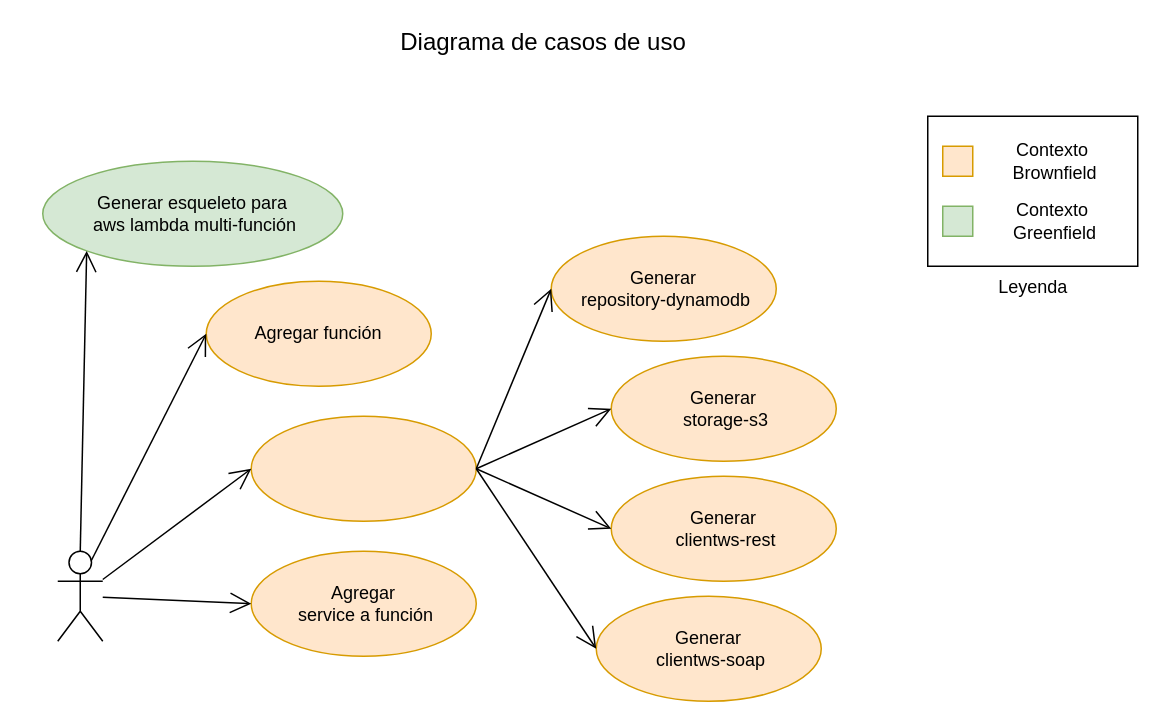
The diagram is 1164 pixels wide and 728 high, and some of its shapes have lost their labels. The shapes that lost their labels are listed below. From the top down, each one's centre as x and y in pixels, then its label:
At point 363,468: "Agregar backend a función".
At point 79,595: "Desarrollador Backend".
